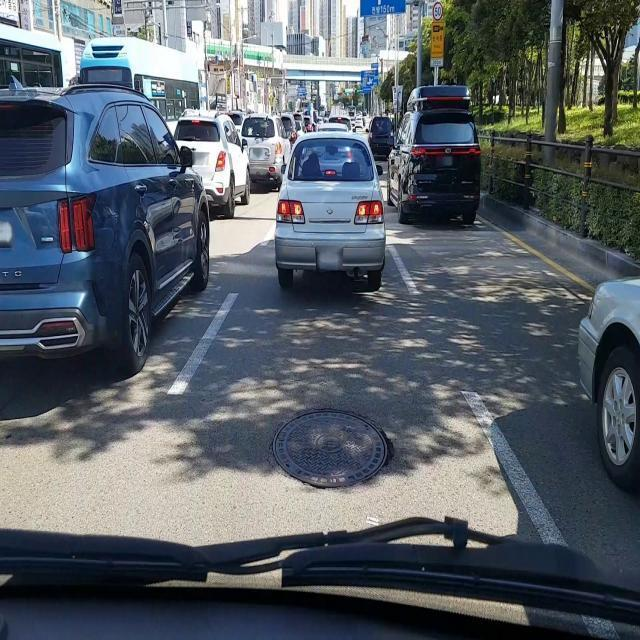pothole: (272, 407, 396, 490)
